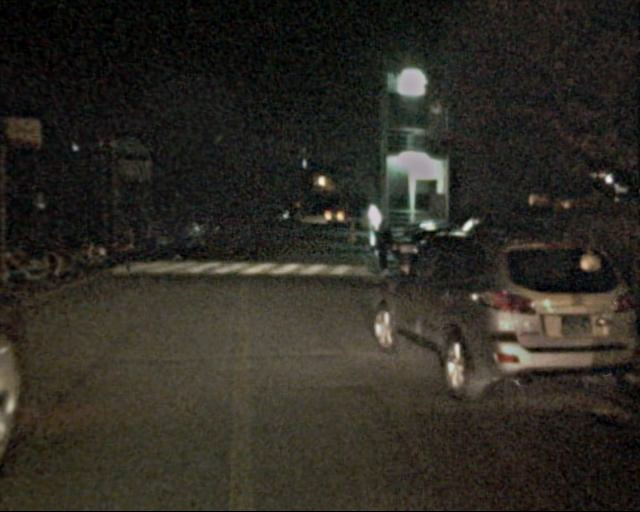person: (111, 212, 137, 275), (370, 223, 393, 280), (169, 213, 184, 254)
